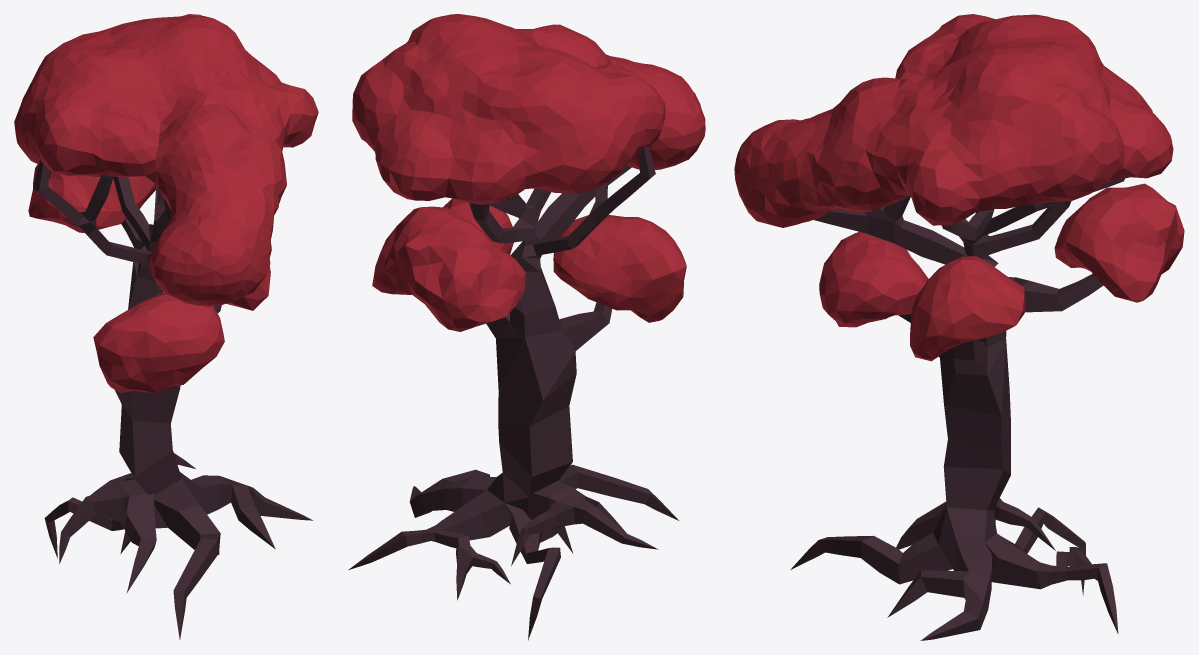
File: TreePackage.fbx_Tree_004.fbx
3 views of the same model, side by side, from view 1: azimuth 30°, elevation 25°; view 2: azimuth 150°, elevation 25°; view 3: azimuth 270°, elevation 25° (orthographic). The views are drawn at different scales.
Visible parts, largest first — view 1: Mball.001, Plane.002; view 2: Mball.001, Plane.002; view 3: Mball.001, Plane.002.
Part boxes in pixels (left/top/right/bottom): Mball.001: left=14, top=14, right=318, bottom=392; Plane.002: left=33, top=160, right=312, bottom=639; Mball.001: left=352, top=14, right=705, bottom=331; Plane.002: left=348, top=145, right=678, bottom=640; Mball.001: left=734, top=14, right=1184, bottom=361; Plane.002: left=790, top=178, right=1124, bottom=640.
Bounding box in the file's own units: 601 × 1180 × 811.
